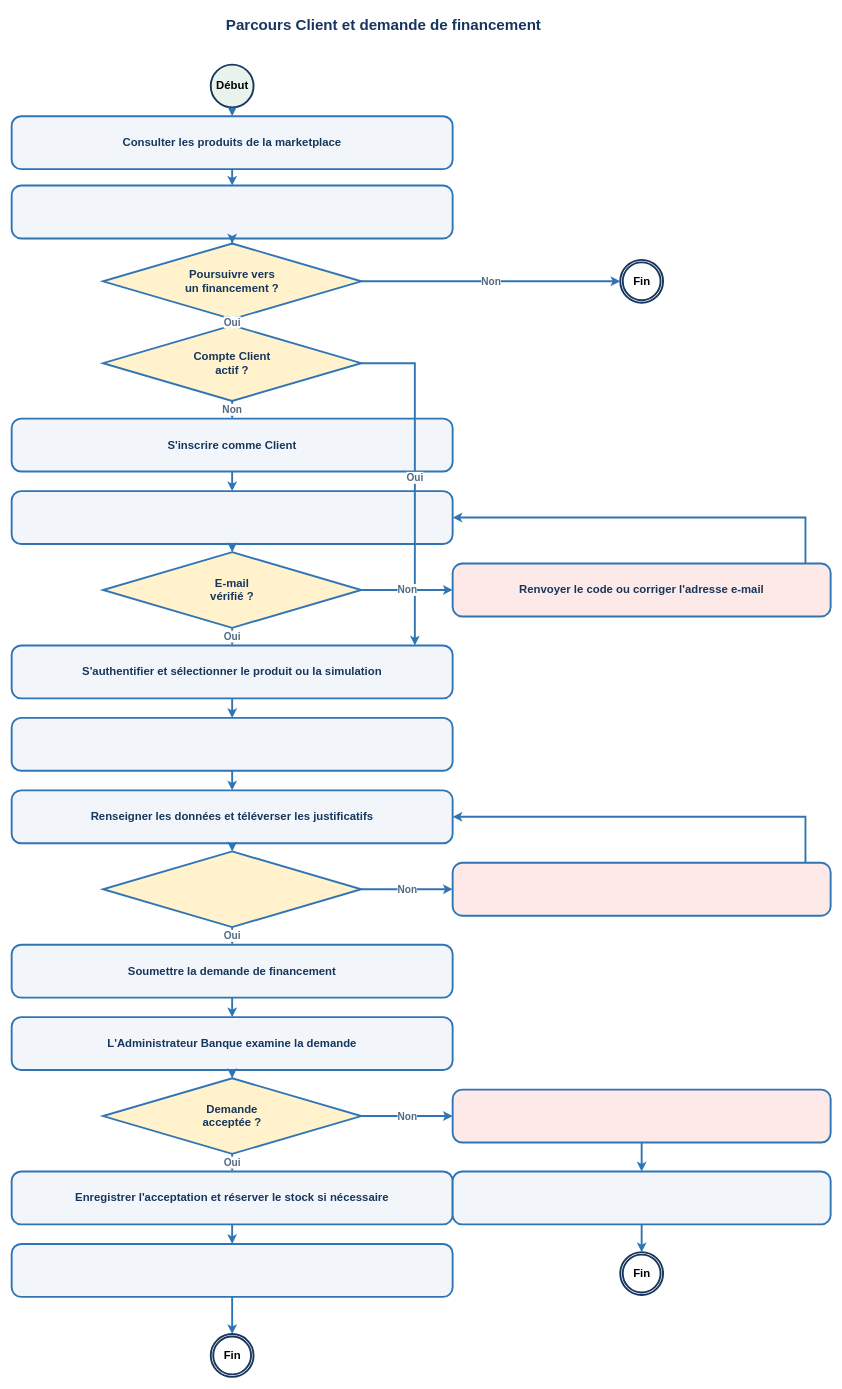
Image size: 842x1389. Some labels were removed from this diagram. The shapes that lost their labels are listed below. From the top down, each one's centre as x and y in pixels, then its label:
[231,211]: Comparer les offres et effectuer une simulation
[231,517]: Envoyer et saisir le code de vérification e-mail
[231,744]: Créer le dossier de financement à l'état brouillon
[232,889]: Dossier complet ?
[641,889]: Compléter ou corriger le dossier
[641,1115]: Saisir le motif et enregistrer le rejet
[641,1197]: Notifier le Client du rejet
[231,1270]: Notifier le Client de la décision
